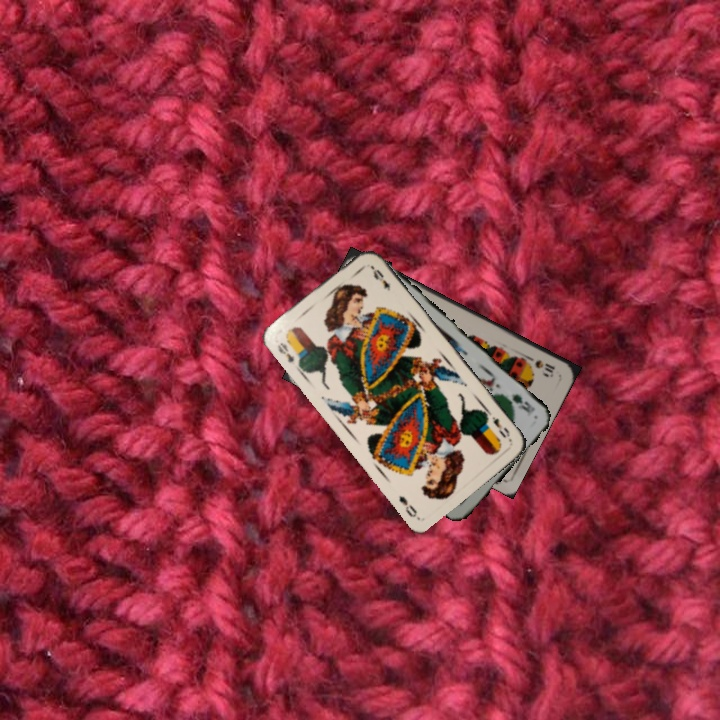EO: (488, 412, 513, 441), (273, 338, 297, 365)
GK: (501, 390, 538, 416)
S10: (523, 352, 558, 378)
